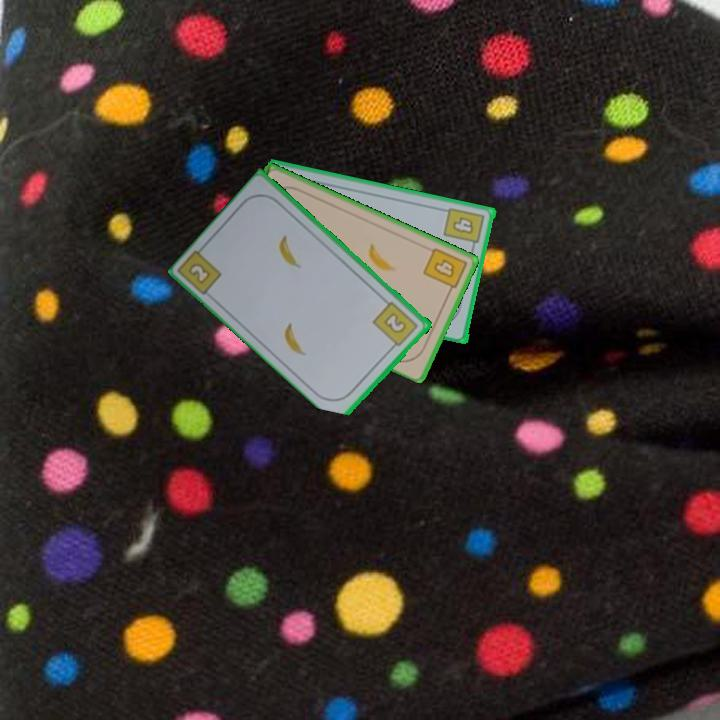2b: (370, 298, 421, 352), (185, 259, 214, 287)
4b: (420, 244, 470, 297), (441, 203, 488, 253)
